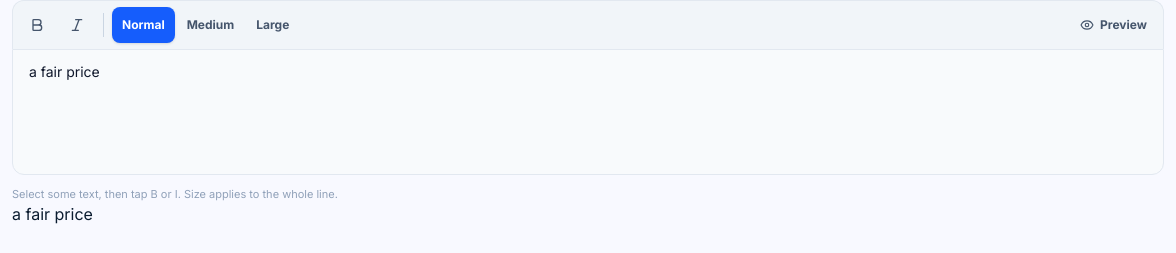
Scenario: FormattedTextarea › disables the formatting buttons while the preview is up
Click the button "Preview" at (1114, 25), box x1=1070 y1=7 x2=1157 y2=43
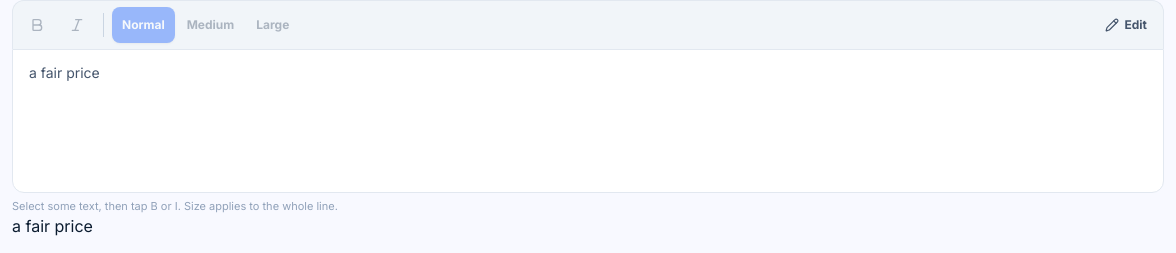
expect the button named "bold" is disabled: met, box x1=19 y1=7 x2=55 y2=43
expect the button "Large" is disabled: met, box x1=246 y1=7 x2=299 y2=43
